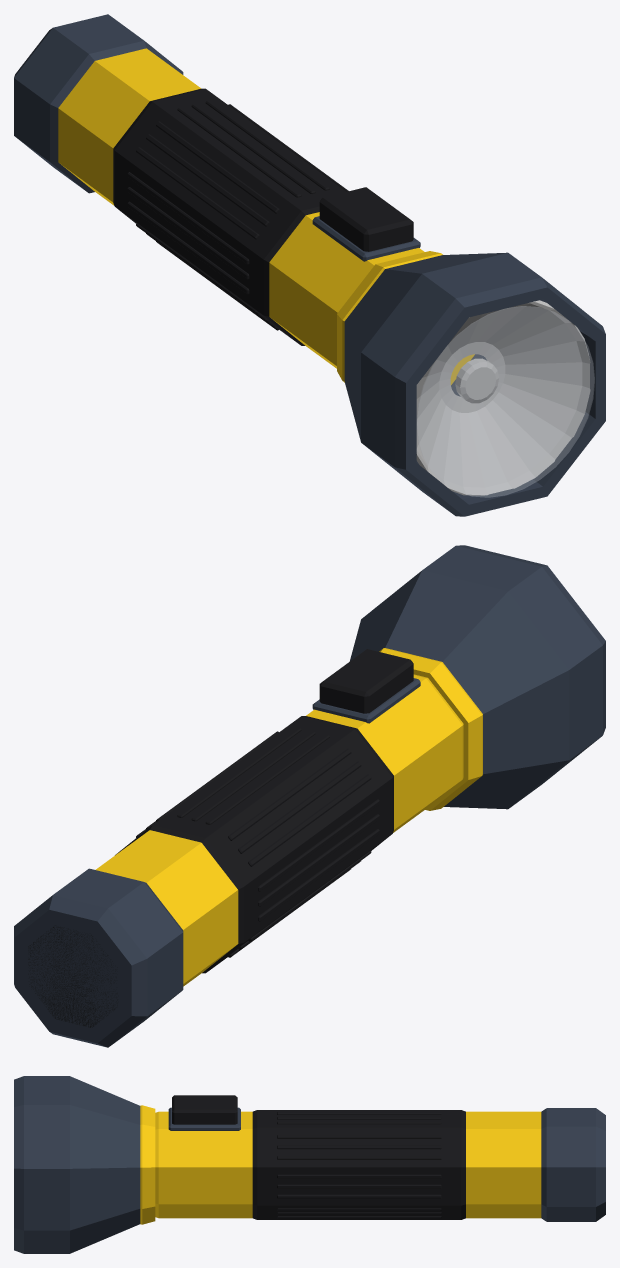
File: flashlight.fbx
The picture shows the model from 3 angles, top to bottom: view 1: azimuth 30°, elevation 25°; view 2: azimuth 150°, elevation 25°; view 3: azimuth 270°, elevation 25°; orthographic projection. The views are drawn at different scales.
Visible parts, largest first — view 1: FL_Grip, FL_Head, FL_Lens, FL_Reflector, FL_Body, FL_TailCap, FL_Button, FL_HeadCollar, FL_Emitter, FL_ButtonSocket; view 2: FL_Head, FL_Grip, FL_TailCap, FL_Body, FL_Button, FL_HeadCollar, FL_TailInset, FL_ButtonSocket; view 3: FL_Grip, FL_Head, FL_Body, FL_TailCap, FL_Button, FL_HeadCollar, FL_ButtonSocket.
Part boxes in pixels (<box>): FL_Grip: <box>113,88,348,345</box>; FL_Head: <box>344,252,605,516</box>; FL_Lens: <box>417,306,594,497</box>; FL_Reflector: <box>416,300,590,495</box>; FL_Body: <box>58,48,424,368</box>; FL_TailCap: <box>14,14,183,193</box>; FL_Button: <box>319,187,413,251</box>; FL_HeadCollar: <box>337,251,474,384</box>; FL_Emitter: <box>455,358,498,403</box>; FL_ButtonSocket: <box>312,216,420,261</box>; FL_Head: <box>349,545,605,809</box>; FL_Grip: <box>115,716,393,973</box>; FL_TailCap: <box>14,868,183,1047</box>; FL_Body: <box>95,674,463,986</box>; FL_Button: <box>319,649,413,713</box>; FL_HeadCollar: <box>379,648,482,810</box>; FL_TailInset: <box>28,925,117,1027</box>; FL_ButtonSocket: <box>312,678,420,723</box>; FL_Grip: <box>252,1110,465,1219</box>; FL_Head: <box>14,1076,140,1253</box>; FL_Body: <box>155,1111,541,1218</box>; FL_TailCap: <box>541,1108,605,1221</box>; FL_Button: <box>172,1095,237,1124</box>; FL_HeadCollar: <box>140,1105,155,1224</box>; FL_ButtonSocket: <box>168,1107,240,1130</box>.
Bounding box in the file's own units: 0.05 × 0.05 × 0.18.
